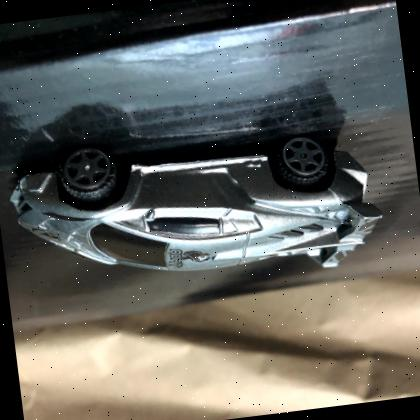Car: (10, 134, 384, 270)
